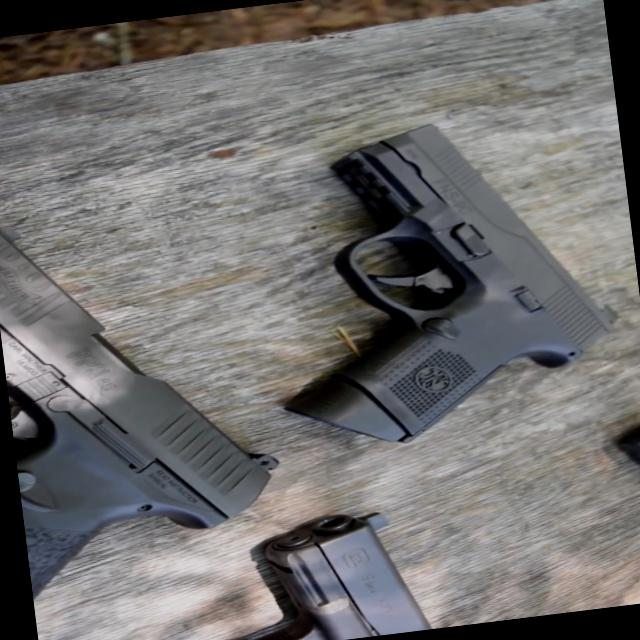handgun: (267, 100, 618, 460)
